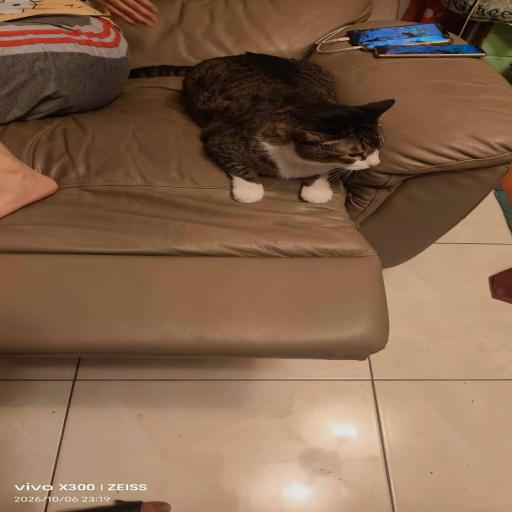cat: (182, 68, 362, 202)
